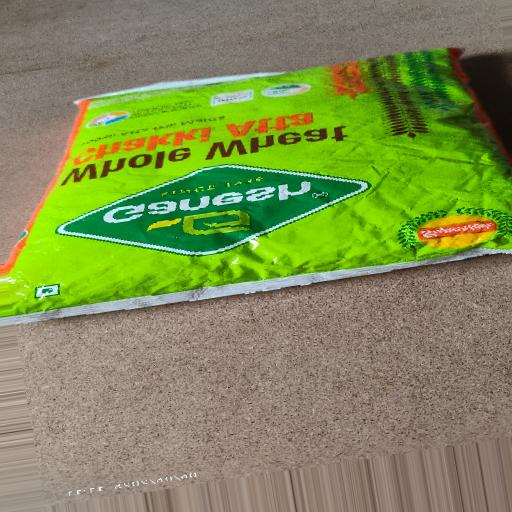Ganesh Atta: (3, 41, 512, 346)
